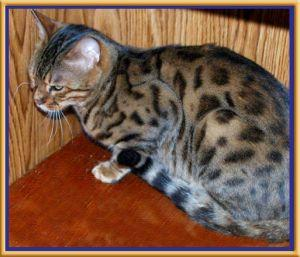bengal: (20, 10, 118, 125)
